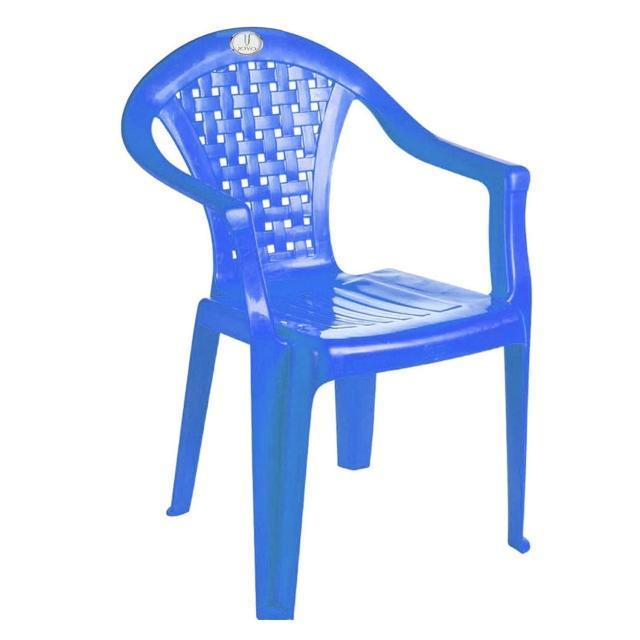chair: (122, 30, 540, 622)
